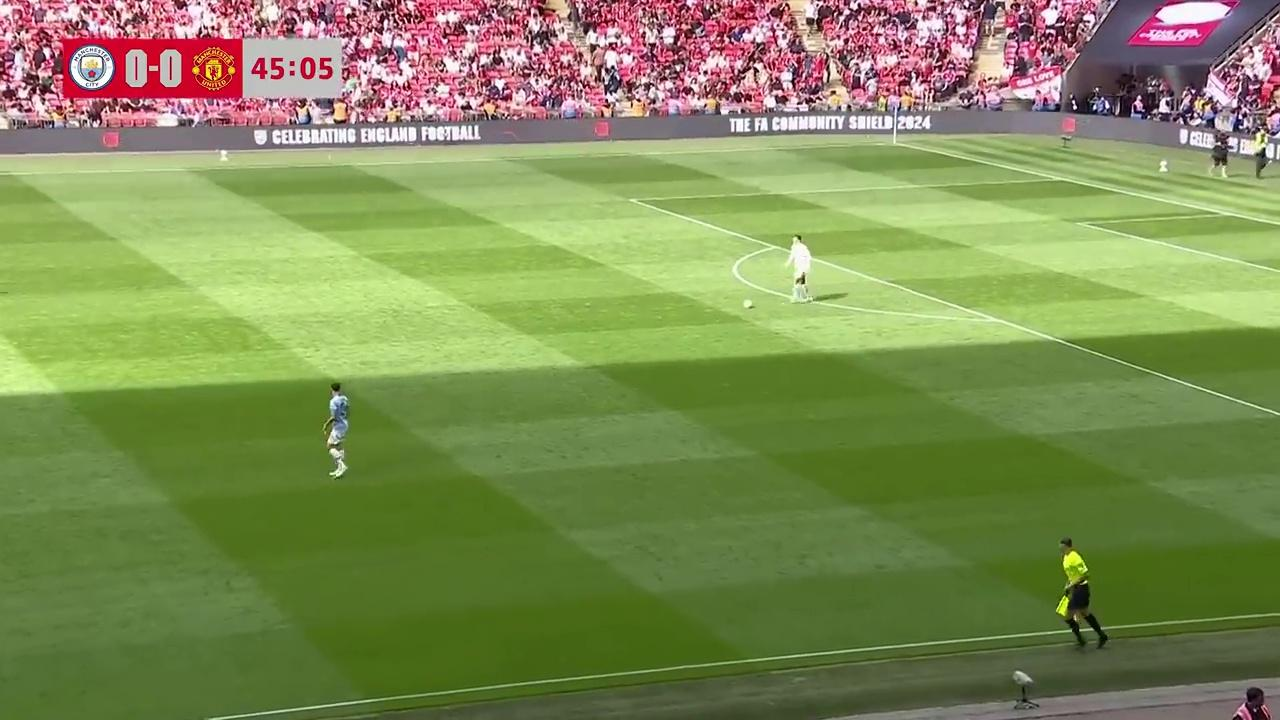ball: (742, 295, 754, 311)
player: (322, 383, 350, 477), (784, 235, 811, 302)
referee: (1047, 535, 1109, 651)
